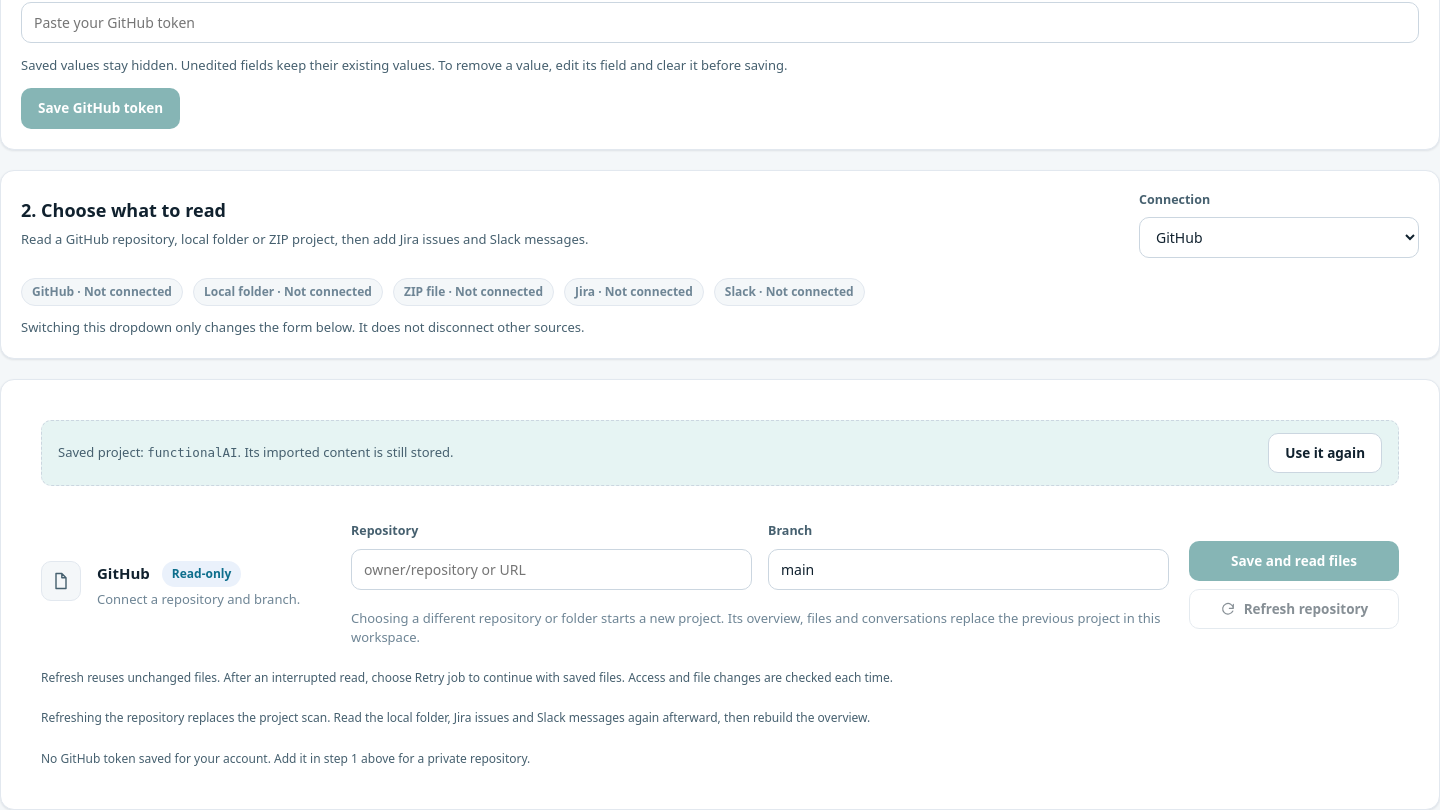
Test case: offers the saved workspace name while reconnecting its actual repository
(page scrolled)
Expected: the element with class "conn-resume-text" shows "Saved project: functionalAI", [58, 443, 454, 463]
Click the button "Use it again": (1325, 453) [1268, 433, 1382, 473]
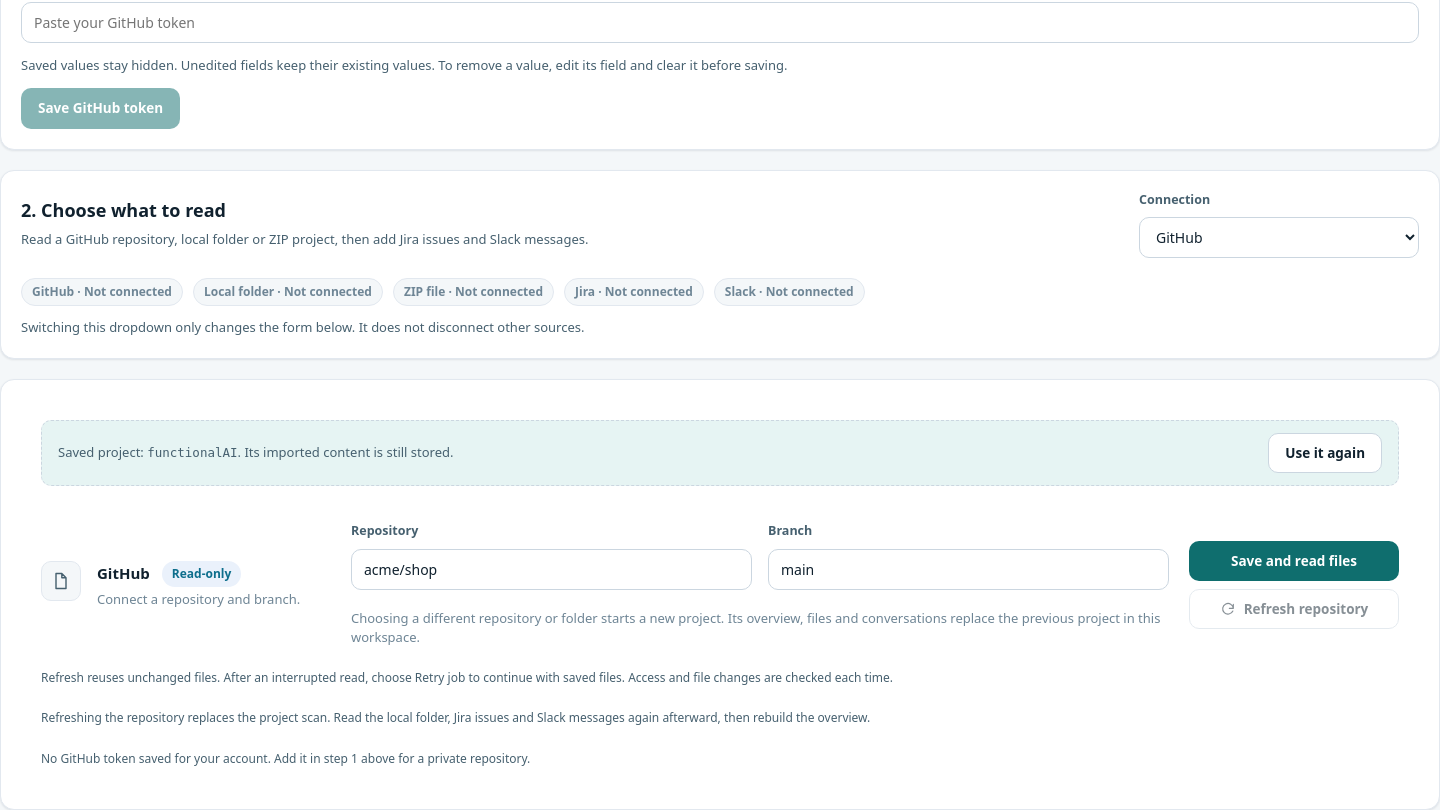
Expected: the field labelled "Repository" holds "acme/shop", [351, 549, 752, 590]
